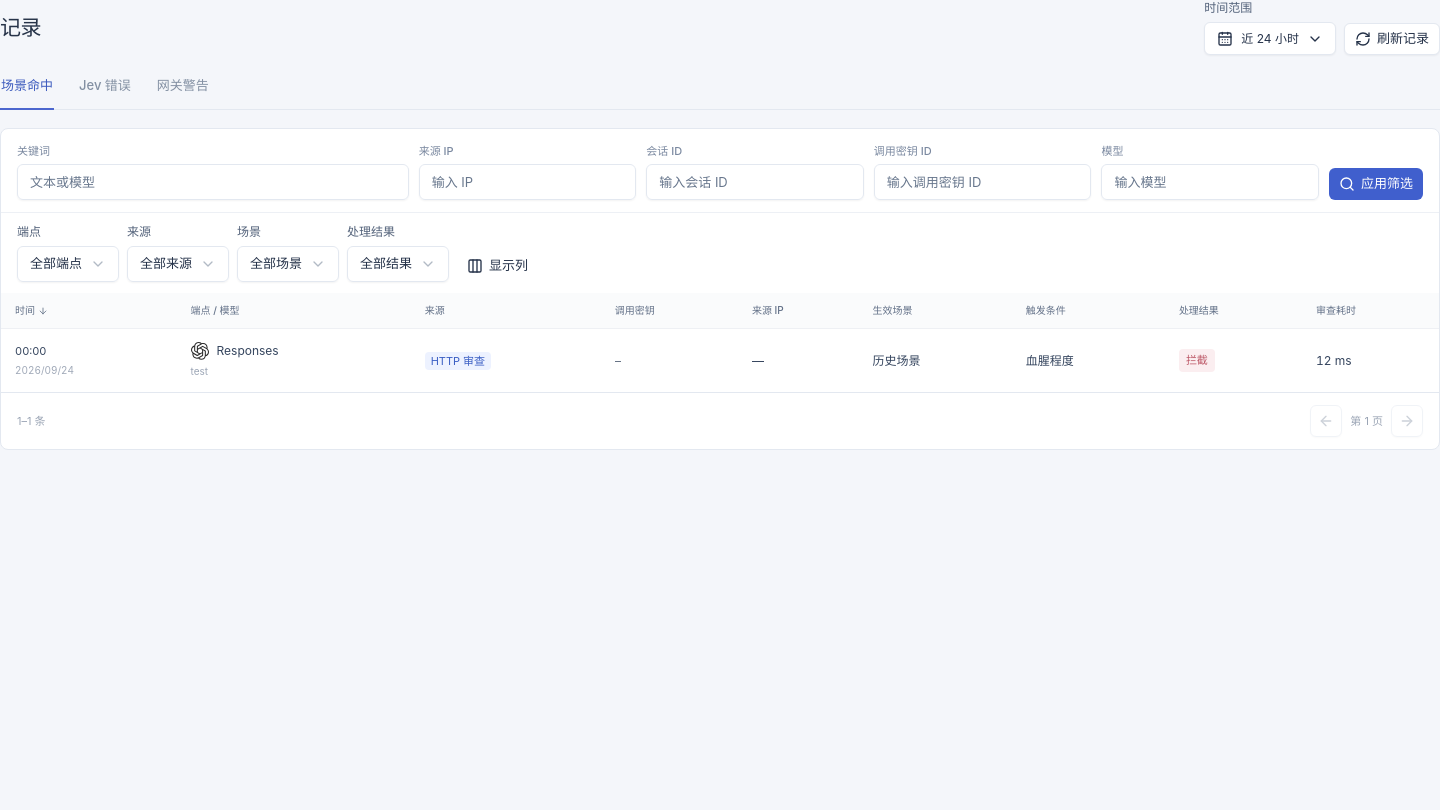
Test case: shows the review_api request source in record details
Click the row named "查看请求 request-1" at (31, 351), box top-left (1, 328), bottom-right (1439, 392)
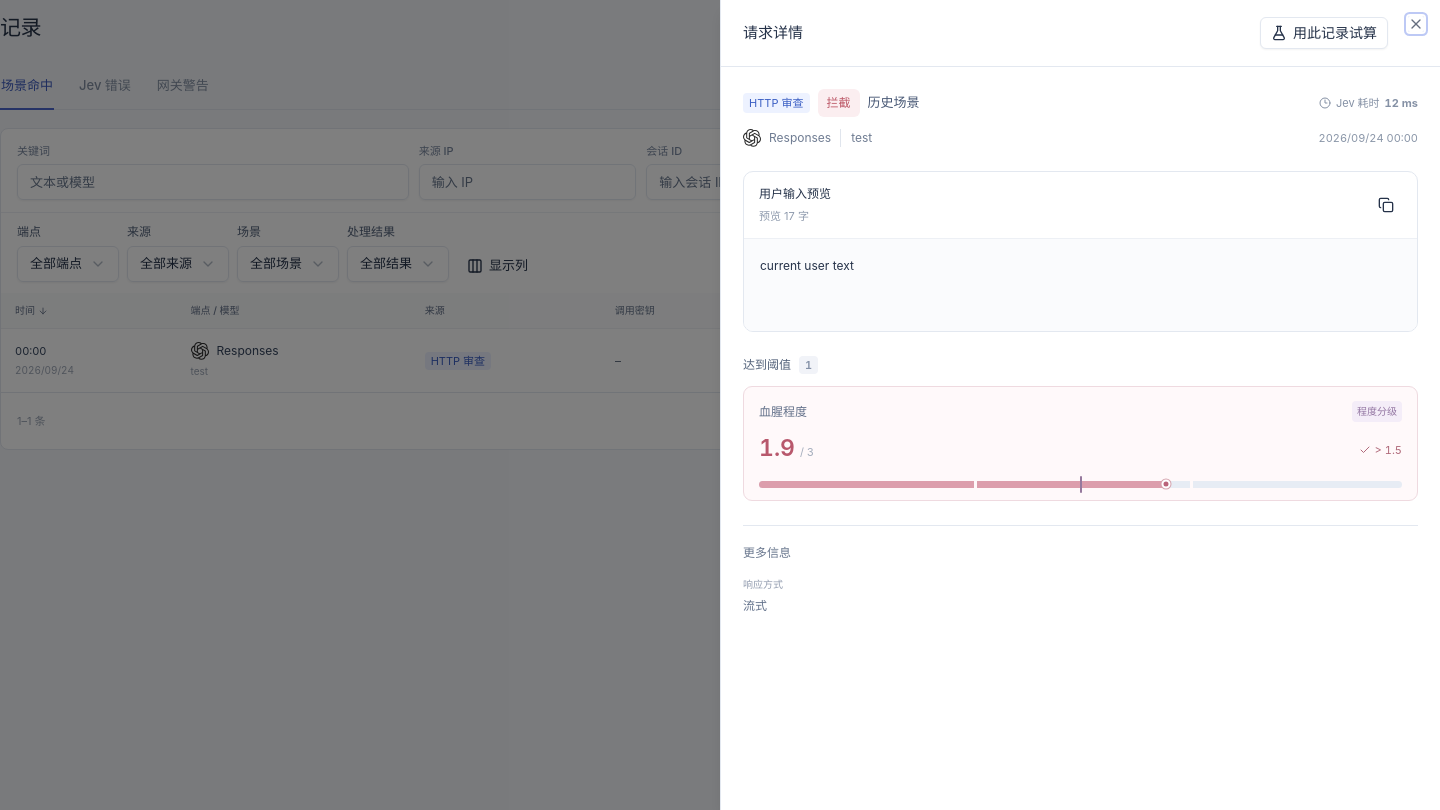
Now the text "HTTP 审查" is shown, box top-left (743, 93), bottom-right (810, 113)
